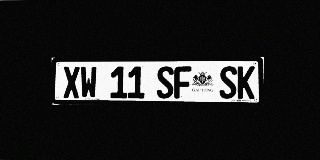1: (110, 66, 127, 98), (128, 66, 144, 98)
F: (174, 66, 191, 99)
K: (237, 66, 255, 99)
S: (219, 66, 237, 99), (157, 66, 174, 98)
W: (80, 66, 97, 98)
X: (63, 66, 80, 98)
